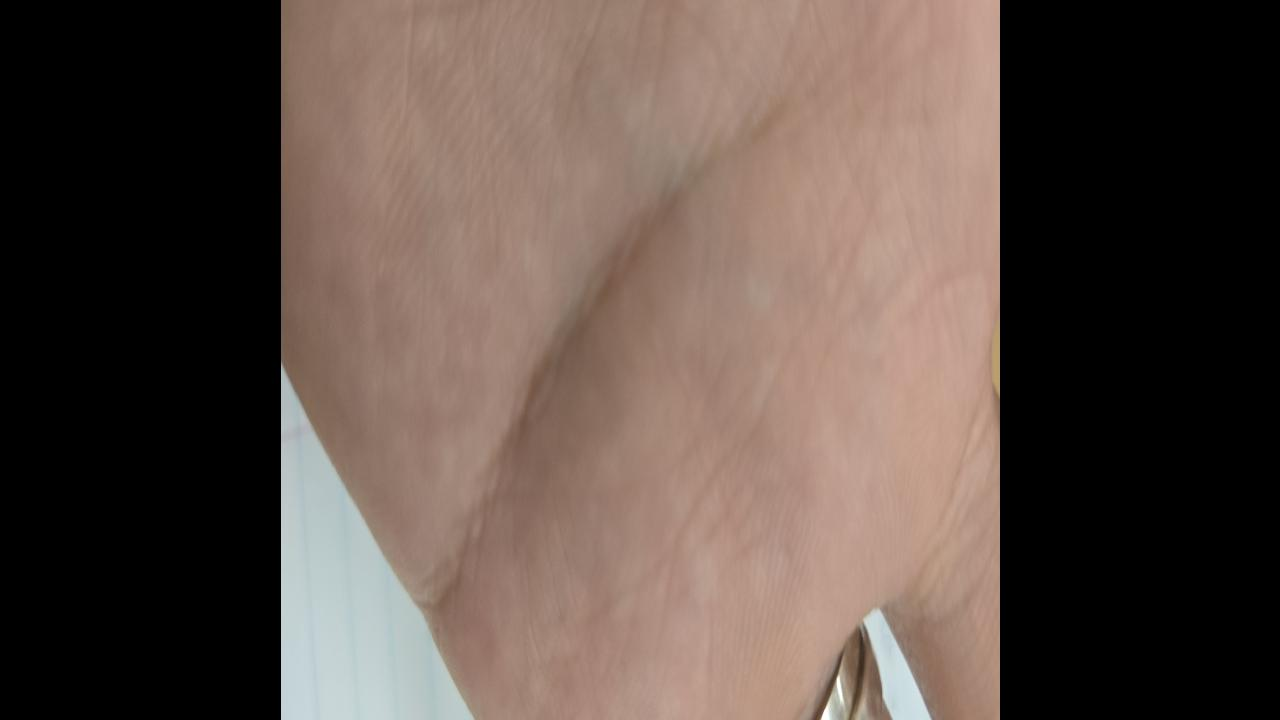ring: (720, 623, 881, 720)
